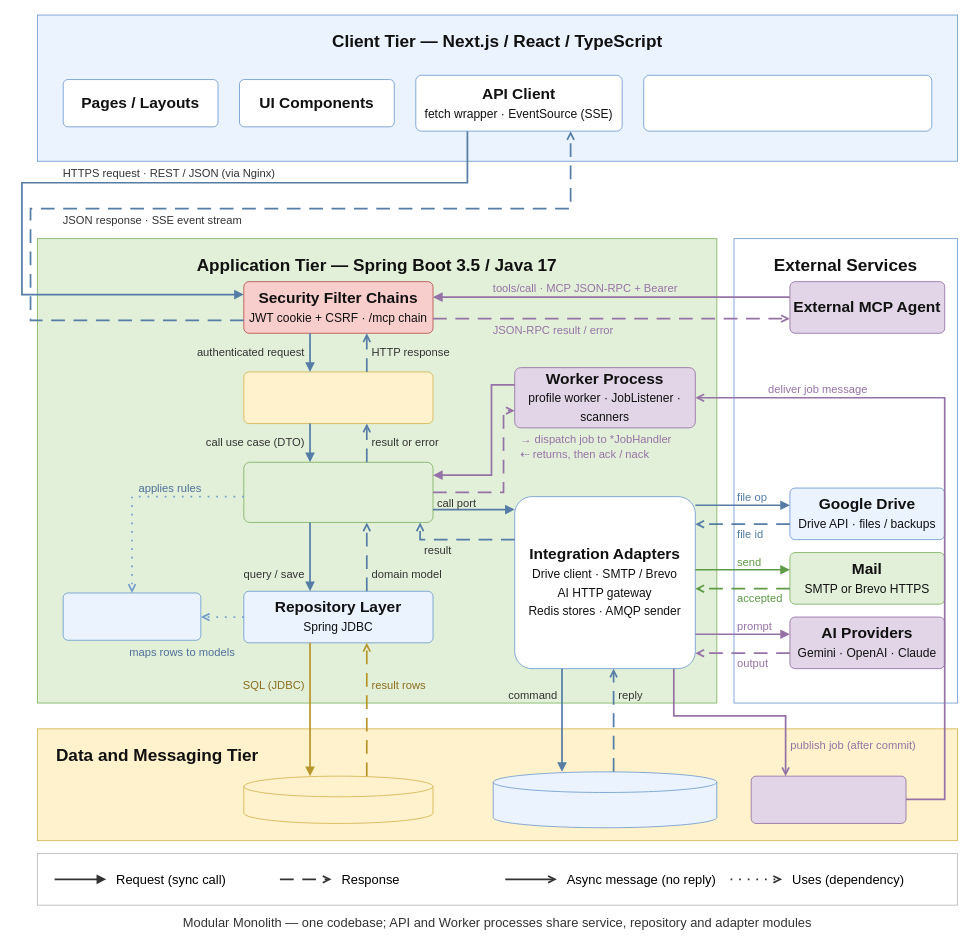
The diagram is 973 pixels wide and 949 high, and some of its shapes have lost their labels. The shapes that lost their labels are listed below. From the top down, each one's centre as x and y in pixels, then its label:
pixel 787 102: Editors / Media Draw.io · YouTube embed
pixel 338 397: REST Controllers MCP Controller (Bearer)
pixel 338 491: Service Layer use cases · *JobHandler
pixel 131 616: Domain Models
pixel 338 799: PostgreSQL
pixel 604 799: Redis sessions · OTP · tokens · throttle
pixel 828 799: RabbitMQ job queues
